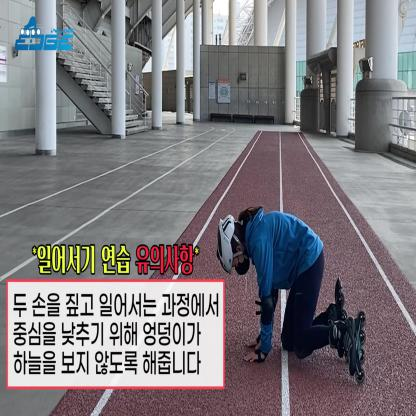Fall_Down: (221, 214, 358, 379)
